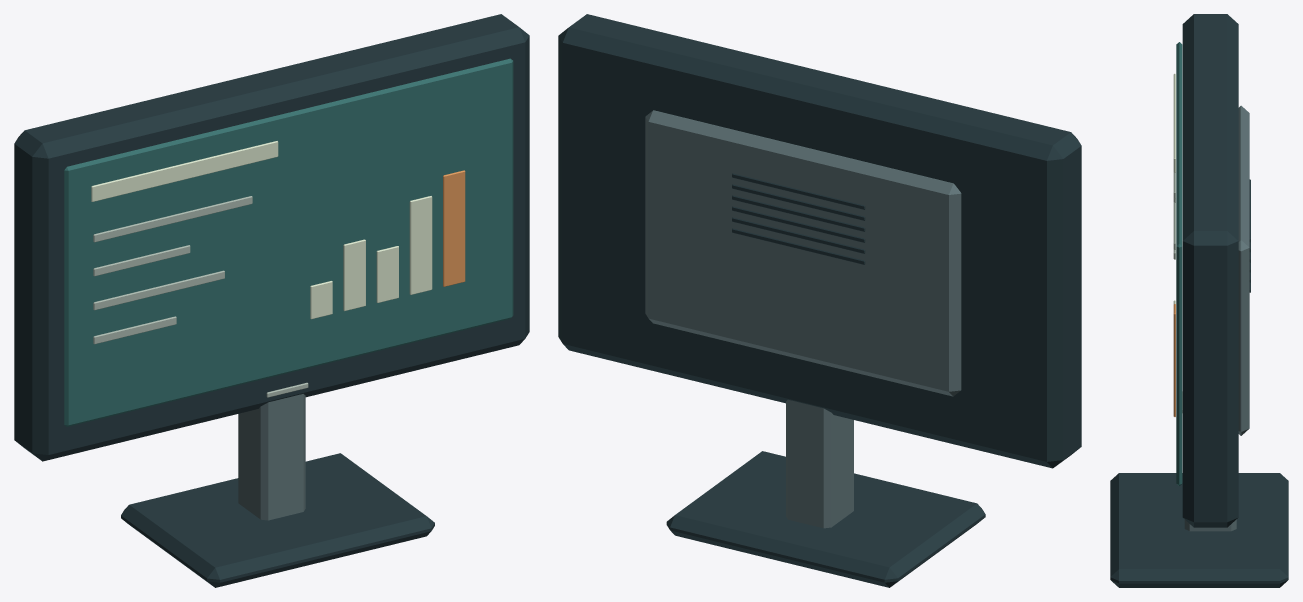
File: monitor.glb
3 views of the same model, side by side, from view 1: azimuth 30°, elevation 25°; view 2: azimuth 150°, elevation 25°; view 3: azimuth 270°, elevation 25° (orthographic). The views are drawn at different scales.
Visible parts, largest first — view 1: Screen, Housing, Base, Stand, RowTitle, RowBar4, RowBar3, RowBar1, RowList0, RowBar2, RowList2, RowList1 (+2 smaller); view 2: Housing, RearCowl, Base, Stand, Vent0, Vent1, Vent2, Vent3, Vent4, Vent5; view 3: Housing, Base, RearCowl, Screen, RowBar4, Stand, RowTitle.
Part boxes in pixels (box(x1,y1,x2,y2)): Screen: box(64, 58, 513, 426); Housing: box(14, 14, 529, 461); Base: box(121, 453, 434, 587); Stand: box(238, 394, 305, 520); RowTitle: box(91, 141, 278, 201); RowBar4: box(443, 170, 465, 286); RowBar3: box(409, 196, 432, 294); RowBar1: box(343, 239, 365, 311); RowList0: box(93, 196, 252, 242); RowBar2: box(376, 246, 398, 302); RowList2: box(93, 270, 224, 310); RowList1: box(93, 245, 190, 276); Housing: box(558, 14, 1081, 468); RearCowl: box(645, 110, 961, 396); Base: box(666, 451, 985, 587); Stand: box(786, 399, 853, 528); Vent0: box(732, 173, 865, 209); Vent1: box(732, 184, 865, 220); Vent2: box(732, 195, 865, 231); Vent3: box(732, 206, 865, 242); Vent4: box(732, 217, 865, 253); Vent5: box(732, 228, 865, 264); Housing: box(1182, 14, 1238, 527); Base: box(1110, 473, 1288, 587); RearCowl: box(1238, 105, 1249, 435); Screen: box(1176, 42, 1182, 486); RowBar4: box(1173, 304, 1175, 416); Stand: box(1184, 519, 1236, 531); RowTitle: box(1173, 73, 1175, 172).
Bounding box in the file's own units: 0.72 × 0.619 × 0.24.
